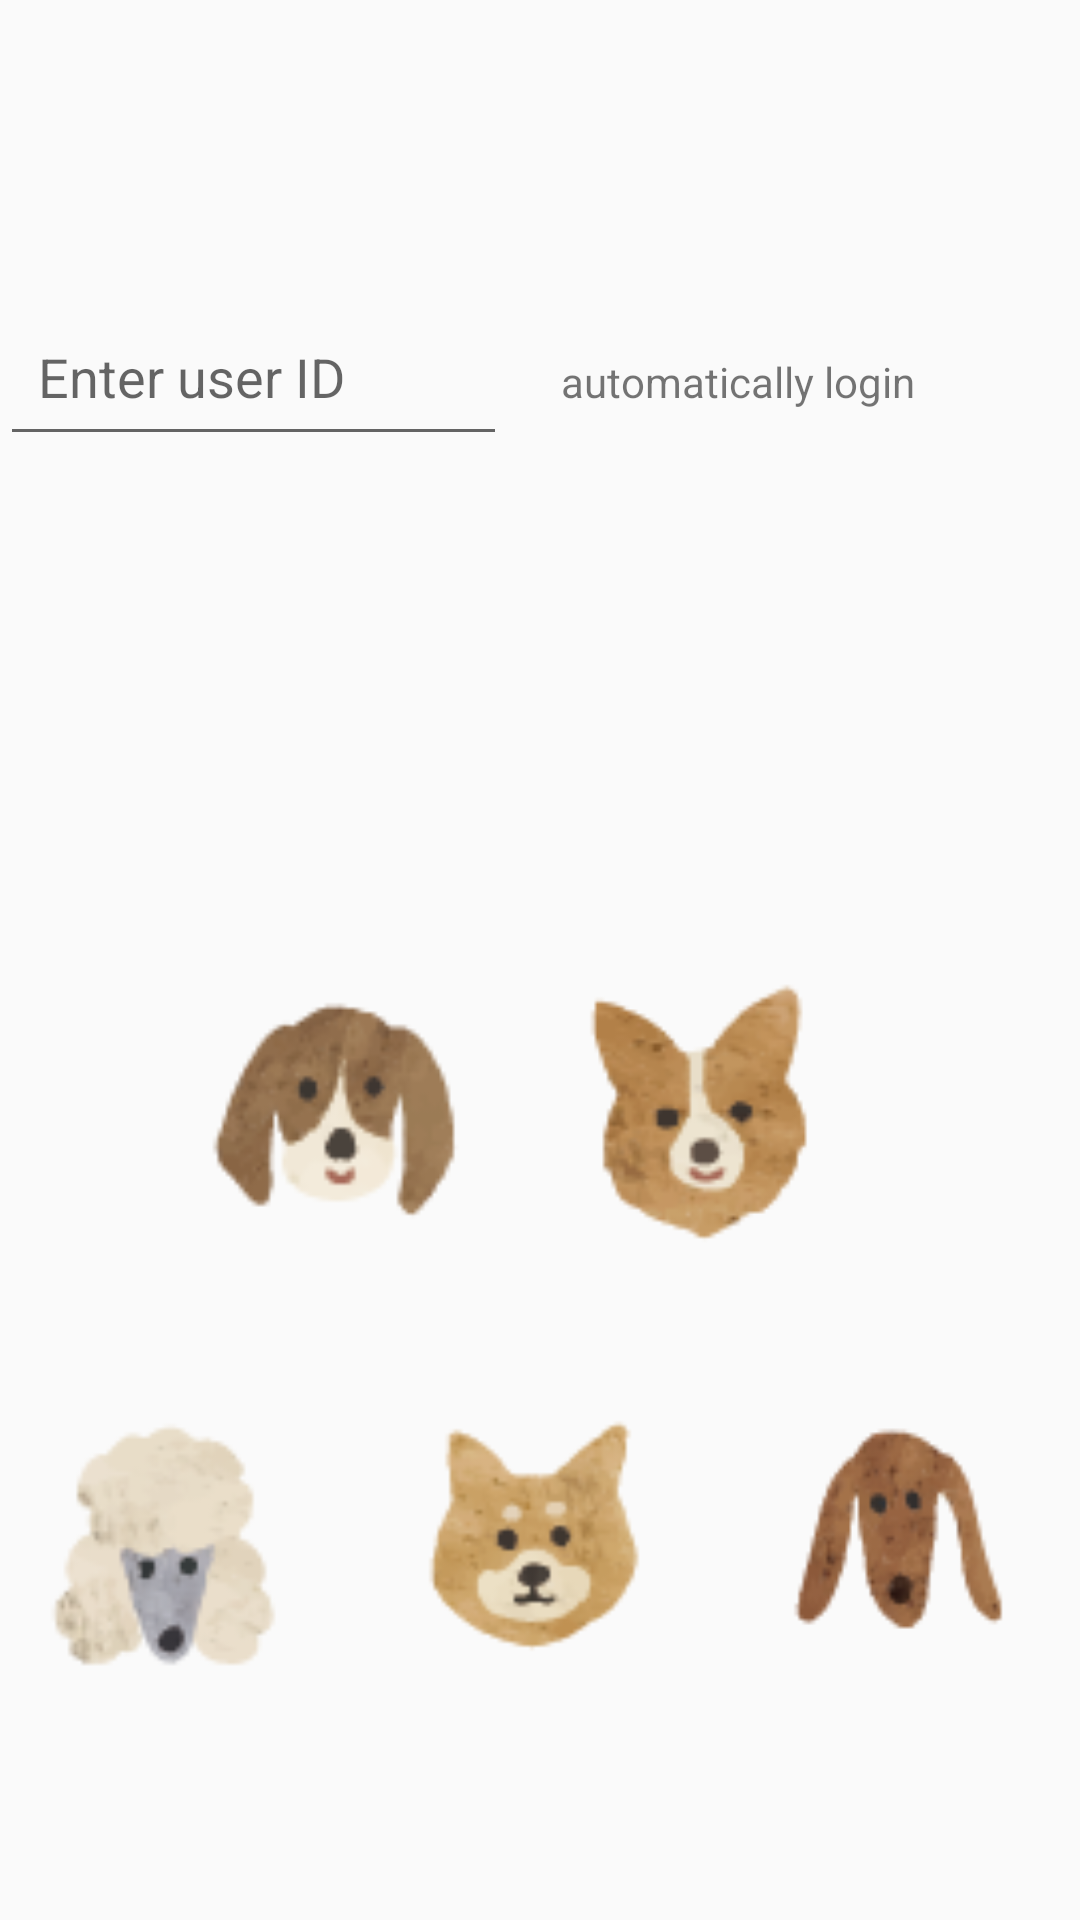

Named icons in this screenshot (1080 × 1920) and their centers, (x=x, y=y):
beaglehead: (x=334, y=1109)
corgihead: (x=699, y=1112)
dachshundhead: (x=898, y=1529)
poodlehead: (x=164, y=1546)
shibainuhead: (x=534, y=1535)
